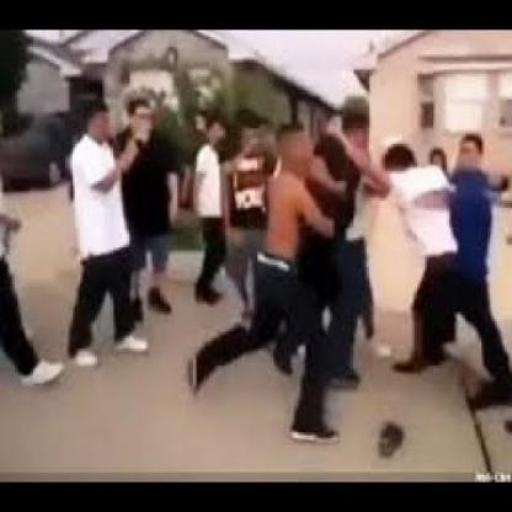Fighting: (194, 107, 512, 433)
